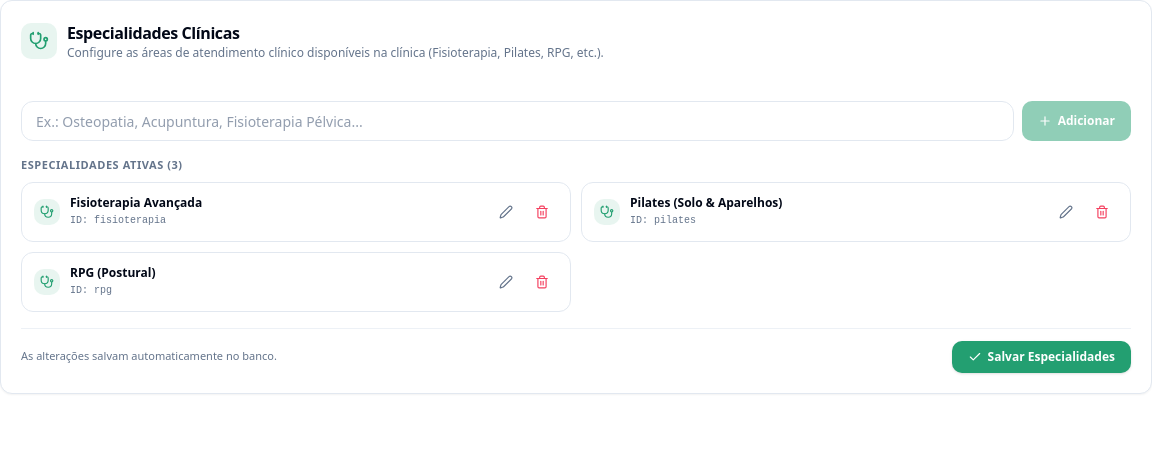
edita o nome de uma especialidade clínica existente
This screenshot has width=1152, height=469.
Click the button named "Editar Pilates (Solo & Aparelhos)" at (1066, 212), box [1050,196,1082,228]
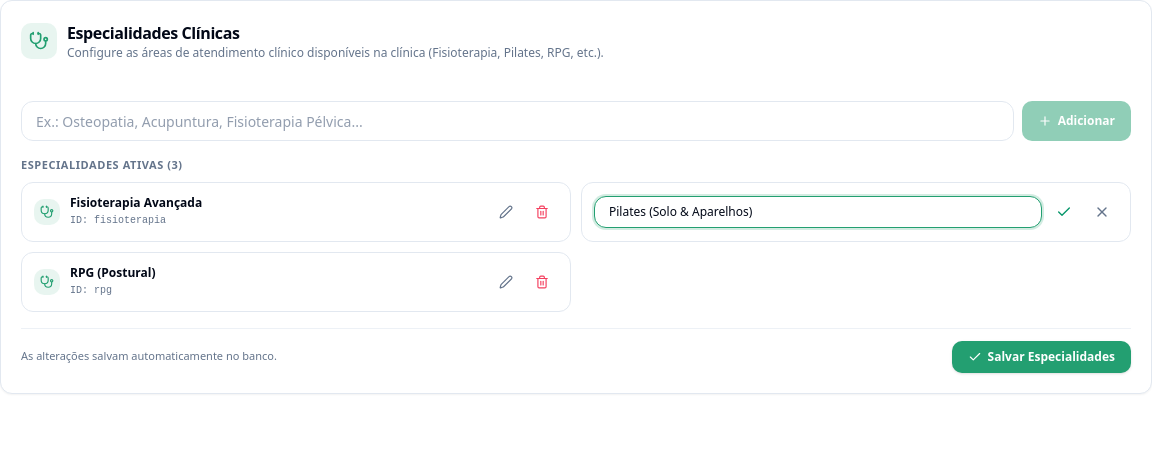
Replace the text in the field named "Editar nome da especialidade Pilates (Solo & Aparelhos)" with "Studio Pilates Moderno" at (818, 212), box [594,196,1042,228]
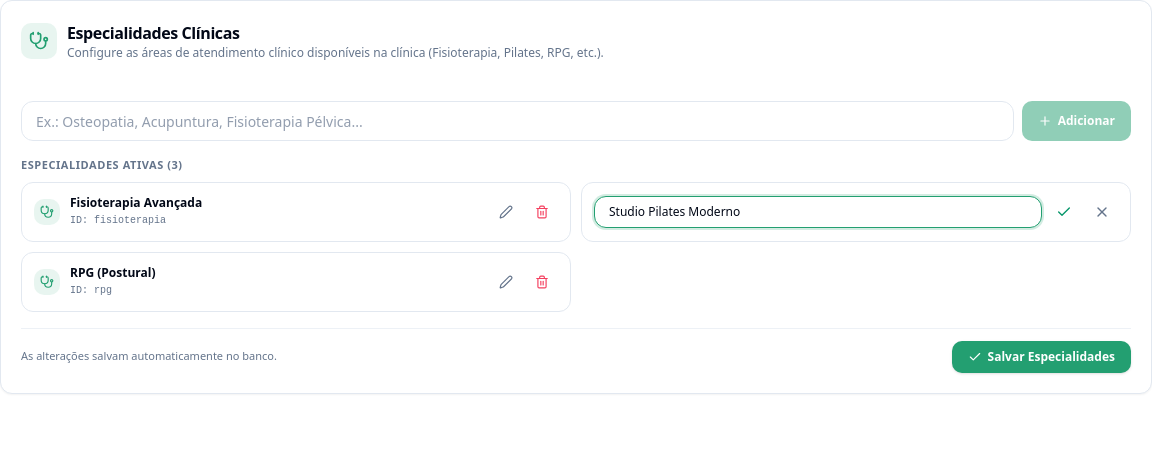
Click the button named "Confirmar edição" at (1064, 212), box [1048,196,1080,228]
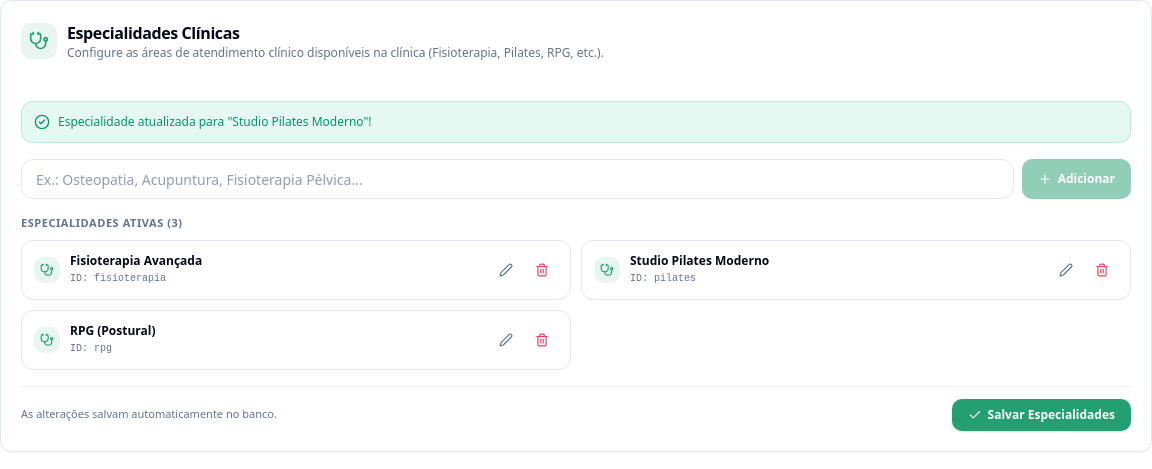
Check: the text "Pilates (Solo & Aparelhos)" is not shown
Check: the text "Studio Pilates Moderno" is shown, box [630,252,769,268]
